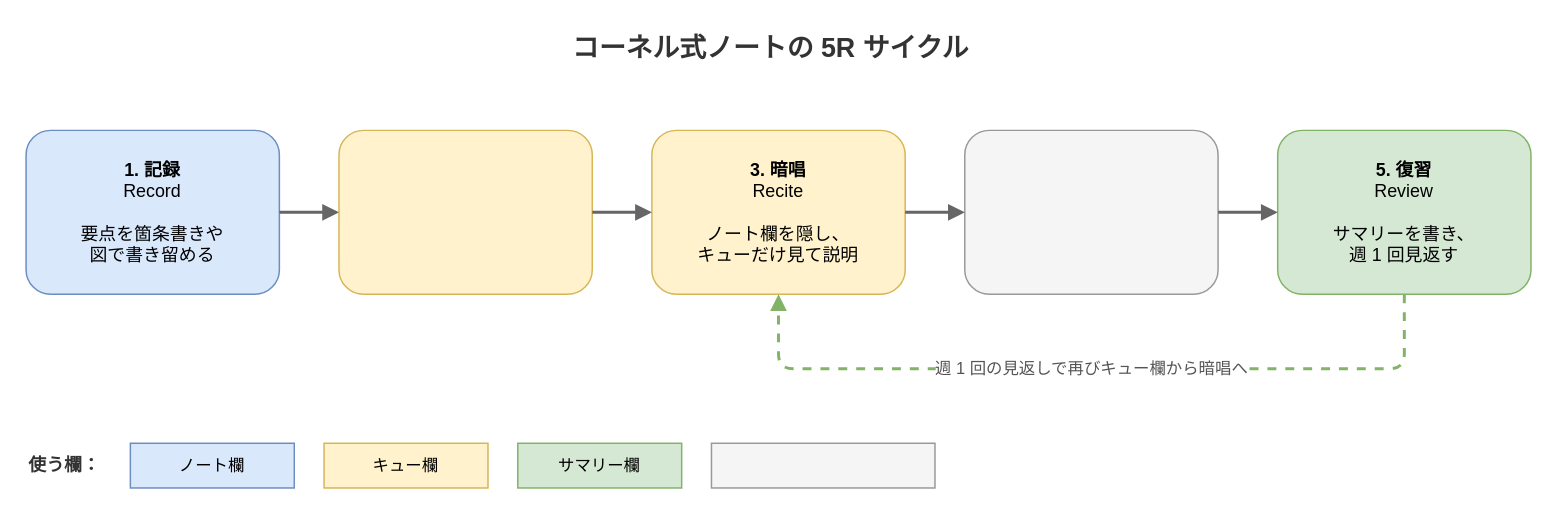
The diagram is 1557 pixels wide and 514 high, and some of its shapes have lost their labels. The centre of each missing label's shape, as x and y in pixels:
"2. 抽出 Reduce キーワードと問いを 抜き出す" goes at (464,211).
"4. 熟考 Reflect 「なぜ？」「何と 繋がる？」を考える" goes at (1090,211).
"頭の中（余白にメモ）" goes at (822,465).
